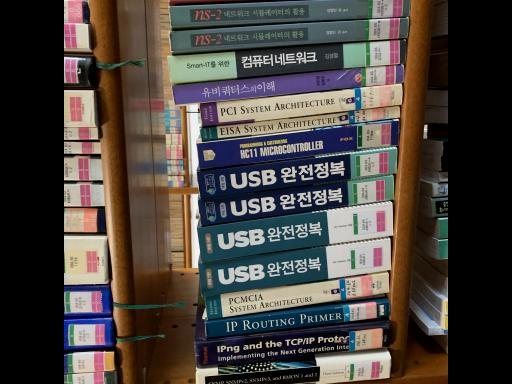book-spine: (197, 202, 394, 261), (198, 238, 391, 296), (167, 39, 406, 81), (196, 119, 400, 168), (196, 147, 397, 196), (198, 175, 394, 225), (172, 63, 404, 103), (205, 272, 390, 319), (169, 16, 409, 51), (200, 83, 403, 124), (195, 324, 392, 366), (200, 104, 401, 139), (205, 302, 390, 337), (196, 351, 391, 384), (169, 0, 410, 26)
